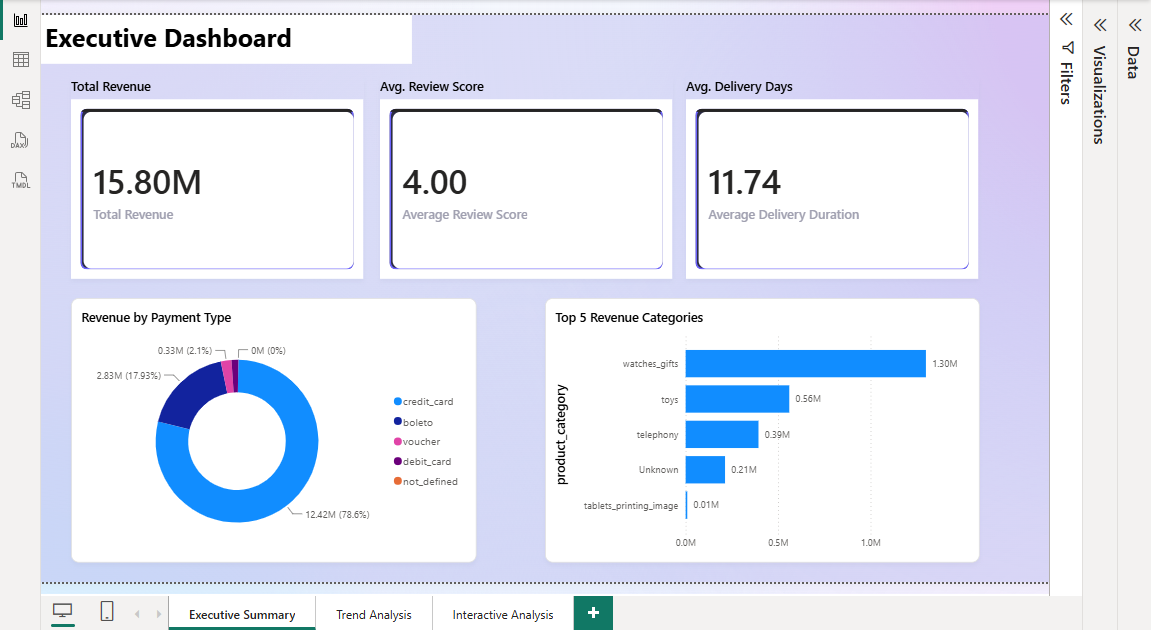

The dashboard page shown, as its layout file describes it:
{"tool":"powerbi","page":{"name":"Executive Summary","canvas":[1280,720],"ordinal":0},"visuals":[{"type":"cardVisual","title":"Total Revenue","fields":{"Data":["DM_Sales_Revenue.Total Revenue"]},"box":[38.4,79.6,371.9,255.2],"z":0},{"type":"cardVisual","title":"Avg. Delivery Days","fields":{"Data":["DM_Customer_Experience.Average Delivery Duration"]},"box":[819.2,79.6,371.9,255.2],"z":1000},{"type":"cardVisual","title":"Avg. Review Score","fields":{"Data":["DM_Customer_Experience.Average Review Score"]},"box":[430.9,79.6,371.9,255.2],"z":2000},{"type":"textbox","box":[0,0,470.7,61.7],"z":3000},{"type":"donutChart","title":"Revenue by Payment Type","fields":{"Y":["DM_Sales_Revenue.Total Revenue"],"Category":["DM_Sales_Revenue.payment_type"]},"box":[38.4,359.5,514.6,336.2],"z":4000},{"type":"barChart","title":"Top 5 Revenue Categories","fields":{"Category":["DM_Sales_Revenue.product_category"],"Y":["DM_Sales_Revenue.Total Revenue"]},"box":[639.5,359.5,551.6,336.2],"z":5000}]}

Visuals, with their boxes on the page's 1280x720 design canvas (x1, y1, x2, y2). These are canvas units, not pixel positions in the 1151x630 screenshot, which may show the page scaled, cropped or inside an application window:
"Total Revenue" cardVisual: x1=38, y1=80, x2=410, y2=335
"Avg. Delivery Days" cardVisual: x1=819, y1=80, x2=1191, y2=335
"Avg. Review Score" cardVisual: x1=431, y1=80, x2=803, y2=335
textbox: x1=0, y1=0, x2=471, y2=62
"Revenue by Payment Type" donutChart: x1=38, y1=360, x2=553, y2=696
"Top 5 Revenue Categories" barChart: x1=640, y1=360, x2=1191, y2=696
